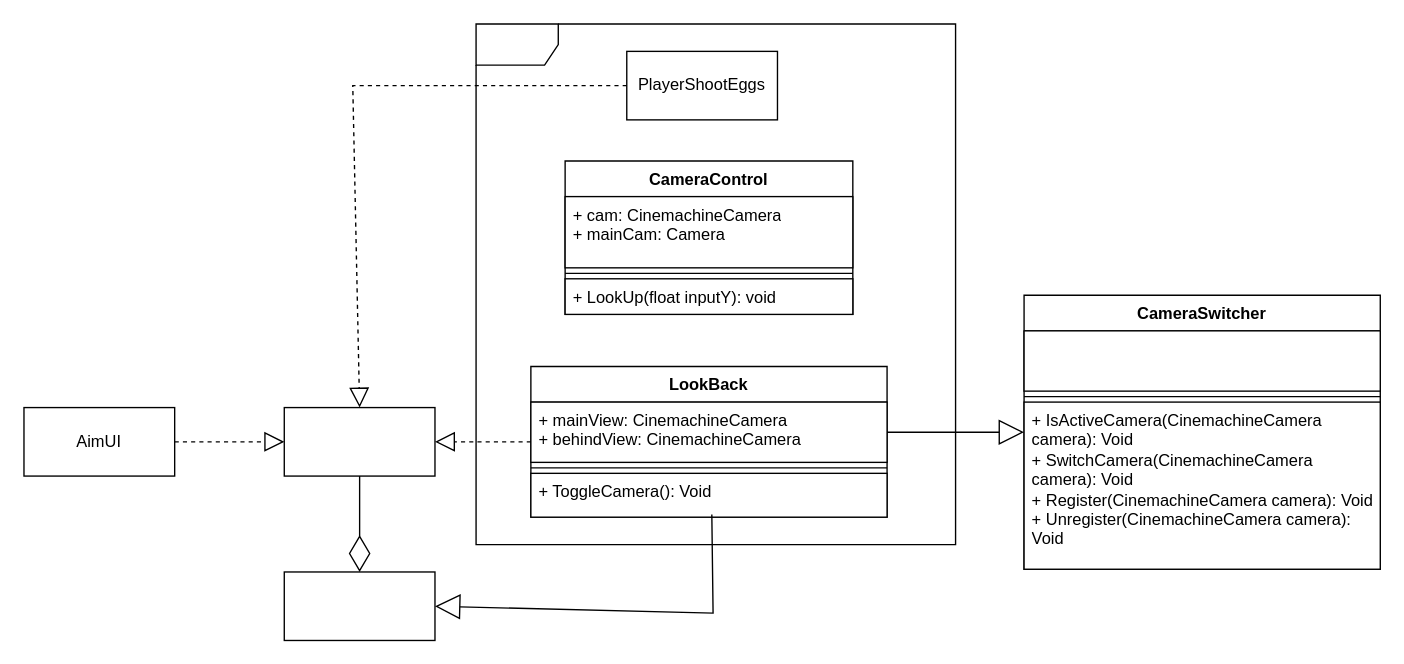
The diagram is 1404 pixels wide and 664 high, and some of its shapes have lost their labels. The centre of each missing label's shape, as x and y in pixels:
+ Cameras: List<CinemachineCamera> + ActiveCamera: CinemachineCamera: point 1201,360
GameManager: point 359,605
Player: point 715,284
«interface» INotify: point 359,441
